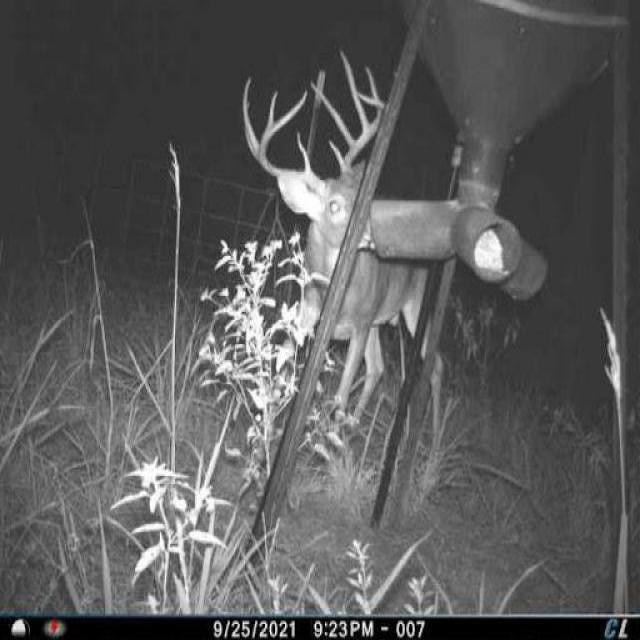deer: (240, 37, 469, 471)
